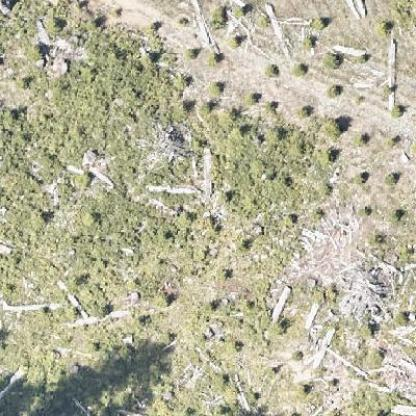tree-top: (323, 114, 348, 136)
